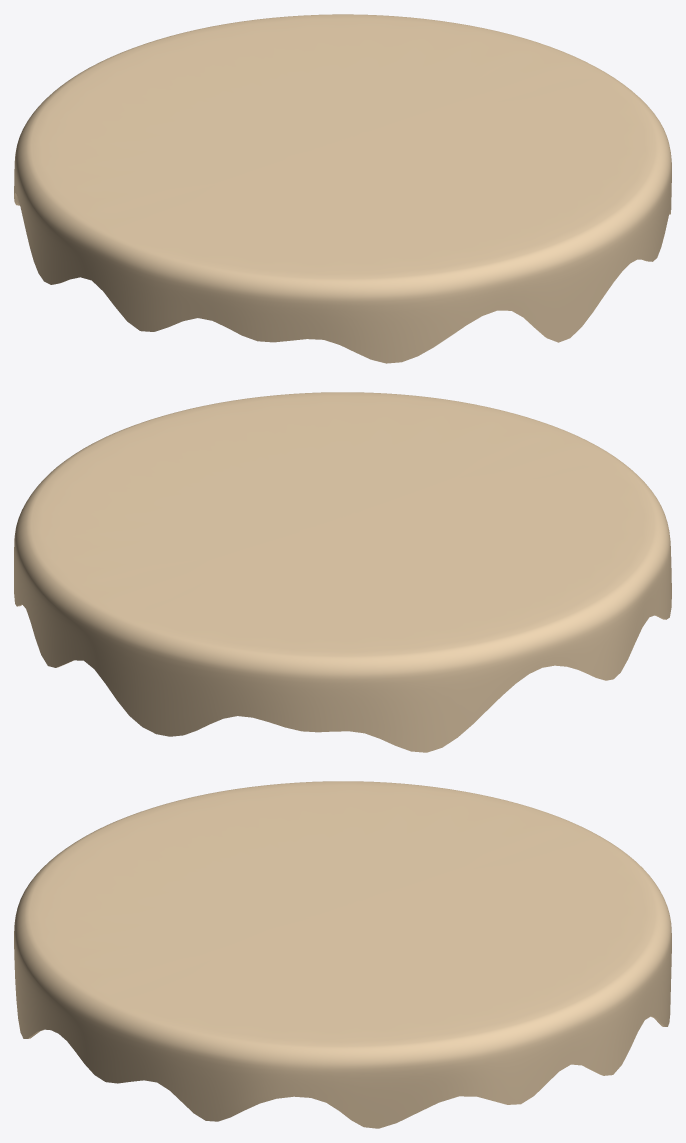
File: GlazeCream.glb
3 views of the same model, one above another, from view 1: azimuth 30°, elevation 25°; view 2: azimuth 150°, elevation 25°; view 3: azimuth 270°, elevation 25° (orthographic).
Parts seen in each view (by area): view 1: Cylinder.003; view 2: Cylinder.003; view 3: Cylinder.003.
Boxes of the visible parts, box(x1,y1,x2,y2) form: Cylinder.003: box(14, 14, 671, 363); Cylinder.003: box(14, 392, 671, 752); Cylinder.003: box(14, 781, 671, 1128).
Size of the model in its own units: 2 by 0.328 by 1.99.
